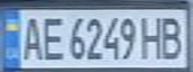2: (84, 14, 106, 61)
4: (103, 14, 124, 61)
6: (63, 12, 87, 61)
9: (118, 14, 139, 61)
A: (18, 12, 45, 62)
B: (157, 12, 187, 61)
E: (39, 12, 66, 62)
H: (136, 12, 166, 60)
